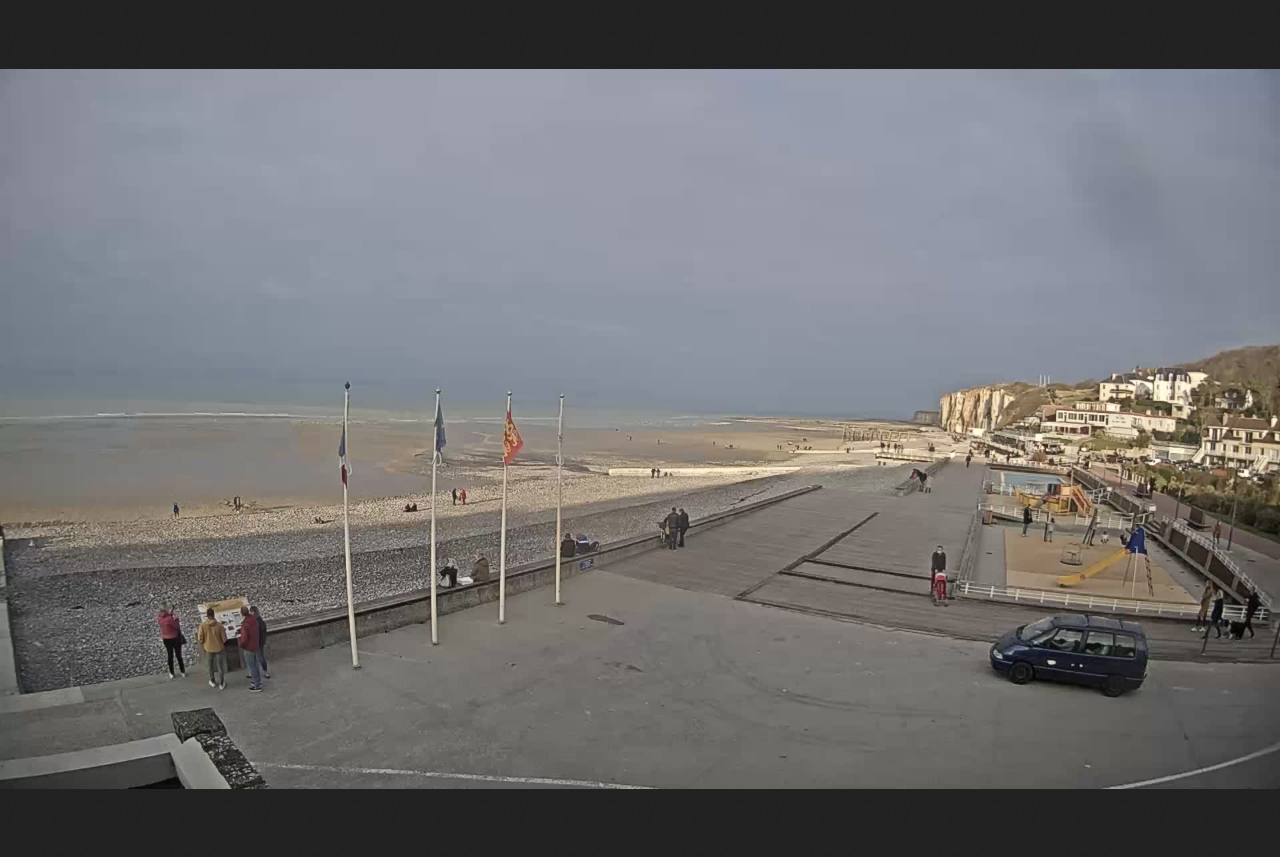no: (336, 407, 354, 487), (500, 407, 523, 462), (434, 399, 448, 464), (555, 410, 568, 462)
